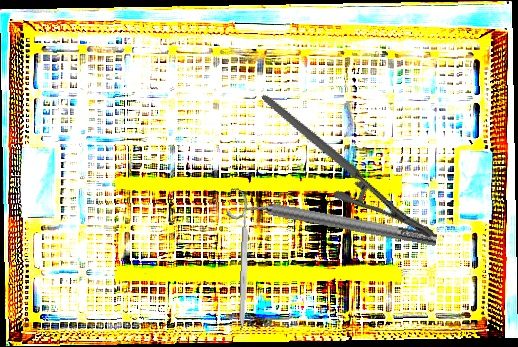Fixation Ring: (225, 184, 440, 259)
Needle Holder: (260, 55, 437, 277)
Scalpel Handle: (238, 210, 251, 332)
